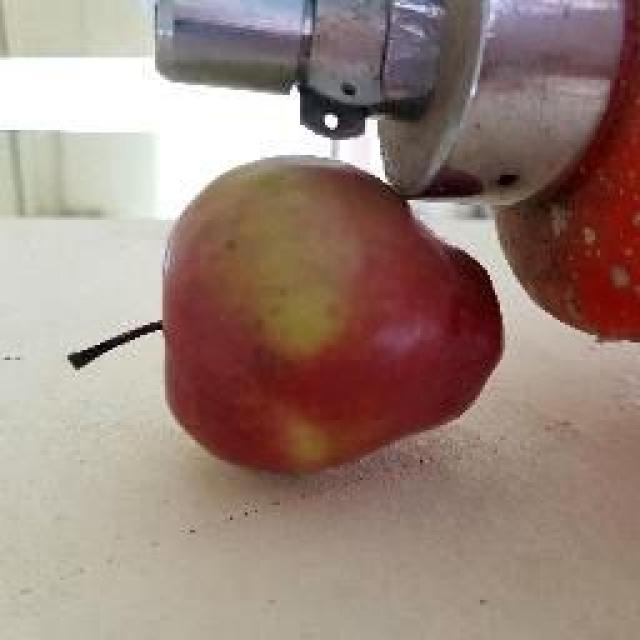Good_Apple: (162, 158, 505, 475)
